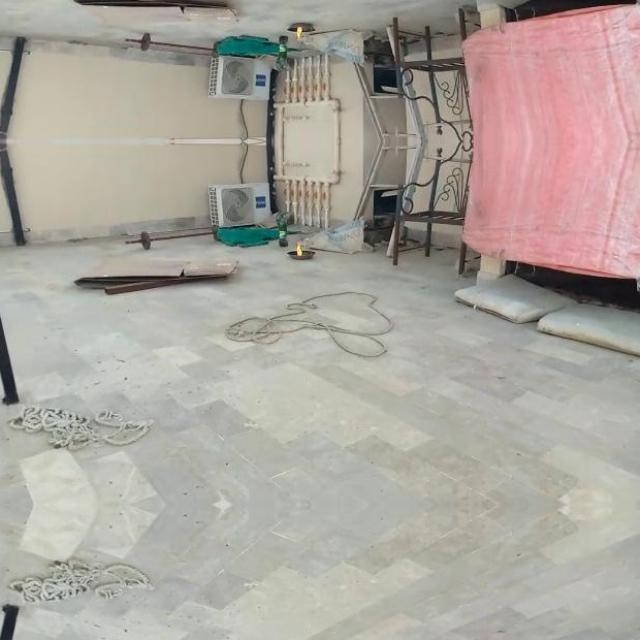smoke: (294, 240, 307, 260), (294, 23, 307, 43)
